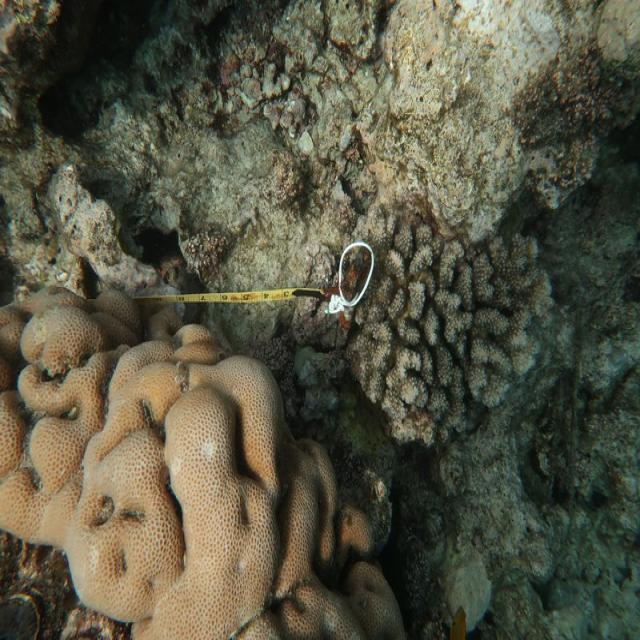Healthy Coral: (0, 272, 370, 640)
